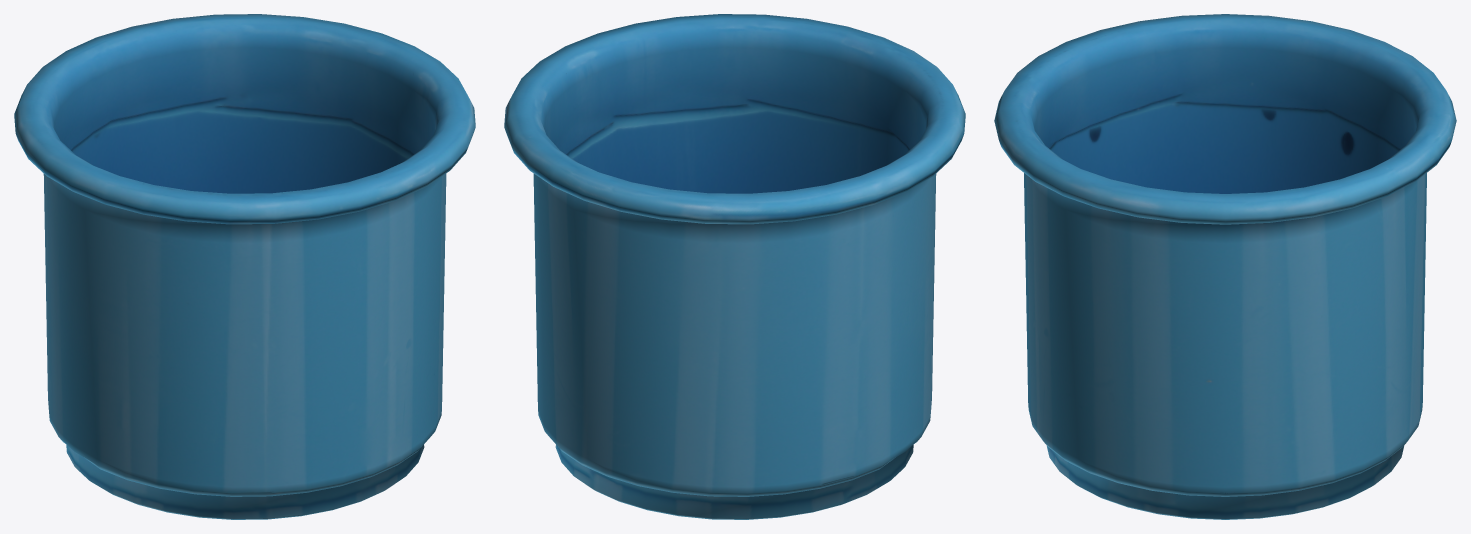
Rendered from 065-h_cups.dae.
The picture shows the model from 3 angles, left to right: view 1: azimuth 30°, elevation 25°; view 2: azimuth 150°, elevation 25°; view 3: azimuth 270°, elevation 25°; orthographic projection.
Visible parts, largest first — view 1: 065-h_cups; view 2: 065-h_cups; view 3: 065-h_cups.
Boxes of the visible parts, left/top/right/bottom form: 065-h_cups: left=14, top=14, right=475, bottom=519; 065-h_cups: left=504, top=14, right=965, bottom=519; 065-h_cups: left=994, top=14, right=1456, bottom=519.
Bounding box in the file's own units: 0.0918 × 0.0918 × 0.0742.
Materials: 1 (1 with a texture image).
